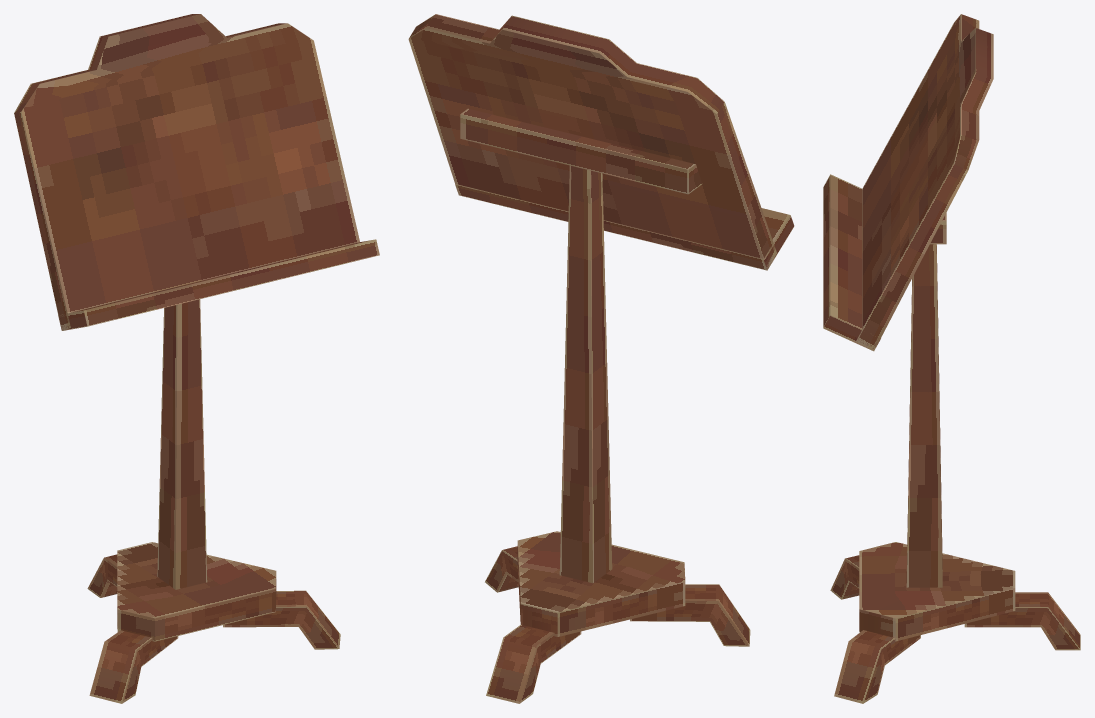
File: o-tate1.glb
3 views of the same model, side by side, from view 1: azimuth 30°, elevation 25°; view 2: azimuth 150°, elevation 25°; view 3: azimuth 270°, elevation 25° (orthographic). The views are drawn at different scales.
Visible parts, largest first — view 1: o_tate1; view 2: o_tate1; view 3: o_tate1.
Part boxes in pixels (x1=…): o_tate1: x1=14, y1=14, x2=379, y2=703; o_tate1: x1=408, y1=14, x2=794, y2=703; o_tate1: x1=823, y1=14, x2=1080, y2=703.
Bounding box in the file's own units: 92 × 180 × 71.
Materials: 1 (1 with a texture image).
